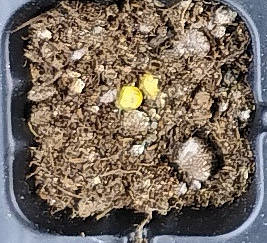pepper seed: (45, 30, 189, 141), (59, 24, 219, 123)
